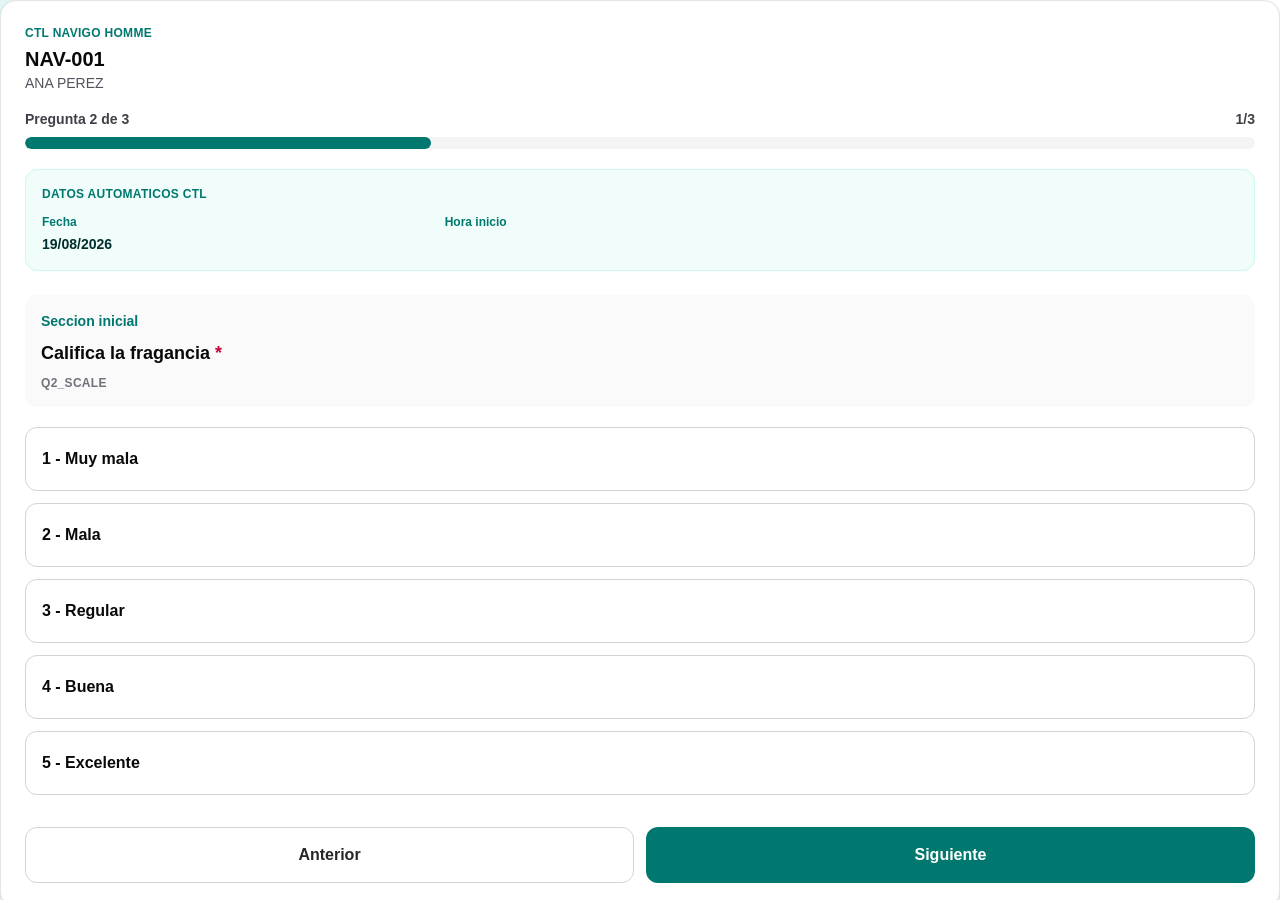
Test: CtlMobileCapture › scrolls to the top of the capture when going back to the previous question
Click the button "Anterior". click: (330, 855)
box: [25,827,634,883]
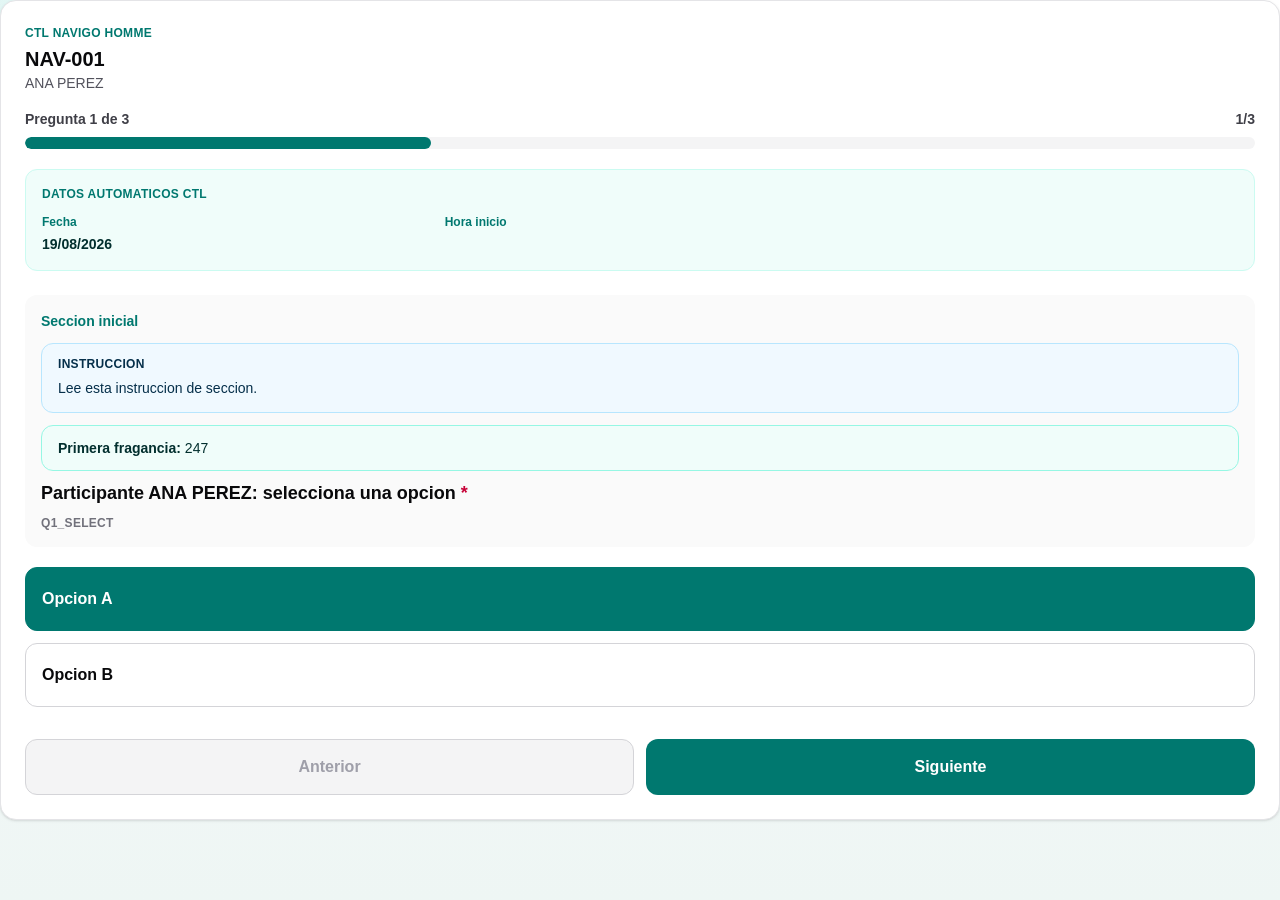
Expected: the text "Pregunta 1 de 3" is shown, [25,109,129,129]
